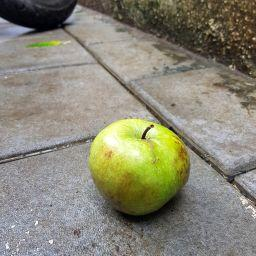apple: (78, 114, 209, 231)
